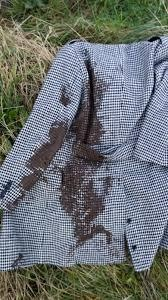earth: (55, 167, 112, 243), (72, 73, 108, 163), (31, 150, 47, 178), (50, 124, 66, 149)
